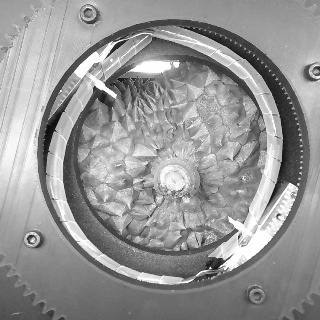base: (150, 152, 200, 200)
end: (159, 164, 192, 192)
